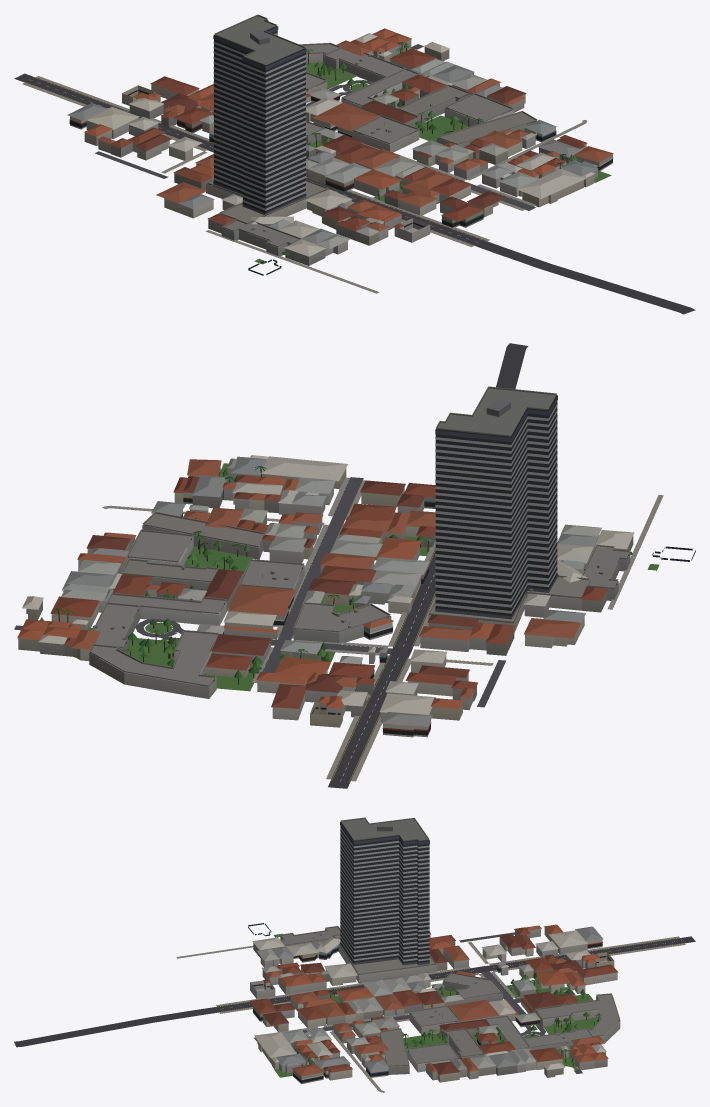
3 views of the same model, one above another, from view 1: azimuth 30°, elevation 25°; view 2: azimuth 150°, elevation 25°; view 3: azimuth 270°, elevation 25° (orthographic). The views are drawn at different scales.
Parts seen in each view (by area): view 1: Buildings__r-9c-8-col, Esperanza Tower CFI-col, Roads_Major__r-9c-8, Sidewalks__r-9c-8-col, Landuse__r-9c-8, Maria Cristina Arcade-col, Props_Foliage__r-9c-8, Windows__r-9c-8, Roads_Minor__r-9c-8, Paragon Suites-col; view 2: Buildings__r-9c-8-col, Esperanza Tower CFI-col, Roads_Major__r-9c-8, Sidewalks__r-9c-8-col, Roads_Minor__r-9c-8, Landuse__r-9c-8, Props_Foliage__r-9c-8, Maria Cristina Arcade-col, Windows__r-9c-8, Paragon Suites-col; view 3: Buildings__r-9c-8-col, Esperanza Tower CFI-col, Roads_Major__r-9c-8, Sidewalks__r-9c-8-col, Landuse__r-9c-8, Props_Foliage__r-9c-8, Roads_Minor__r-9c-8, Windows__r-9c-8, Maria Cristina Arcade-col.
Boxes of the visible parts, left/top/right/bottom form: Buildings__r-9c-8-col: left=67, top=28, right=613, bottom=265; Esperanza Tower CFI-col: left=213, top=14, right=306, bottom=216; Roads_Major__r-9c-8: left=14, top=73, right=695, bottom=314; Sidewalks__r-9c-8-col: left=22, top=48, right=587, bottom=293; Landuse__r-9c-8: left=254, top=48, right=611, bottom=264; Maria Cristina Arcade-col: left=312, top=102, right=380, bottom=137; Props_Foliage__r-9c-8: left=282, top=42, right=583, bottom=255; Windows__r-9c-8: left=69, top=54, right=613, bottom=275; Roads_Minor__r-9c-8: left=95, top=44, right=535, bottom=210; Paragon Suites-col: left=325, top=163, right=371, bottom=191; Buildings__r-9c-8-col: left=17, top=455, right=634, bottom=737; Esperanza Tower CFI-col: left=435, top=386, right=558, bottom=623; Roads_Major__r-9c-8: left=328, top=343, right=528, bottom=788; Sidewalks__r-9c-8-col: left=102, top=477, right=663, bottom=781; Roads_Minor__r-9c-8: left=14, top=477, right=505, bottom=707; Landuse__r-9c-8: left=87, top=463, right=659, bottom=691; Props_Foliage__r-9c-8: left=40, top=466, right=632, bottom=678; Maria Cristina Arcade-col: left=228, top=585, right=295, bottom=626; Windows__r-9c-8: left=90, top=467, right=695, bottom=735; Paragon Suites-col: left=372, top=557, right=429, bottom=584; Buildings__r-9c-8-col: left=249, top=924, right=620, bottom=1083; Esperanza Tower CFI-col: left=340, top=817, right=429, bottom=971; Roads_Major__r-9c-8: left=14, top=936, right=695, bottom=1047; Sidewalks__r-9c-8-col: left=176, top=936, right=685, bottom=1092; Landuse__r-9c-8: left=273, top=933, right=598, bottom=1077; Props_Foliage__r-9c-8: left=294, top=972, right=601, bottom=1066; Roads_Minor__r-9c-8: left=254, top=932, right=582, bottom=1073; Windows__r-9c-8: left=248, top=923, right=619, bottom=1082; Maria Cristina Arcade-col: left=447, top=1000, right=499, bottom=1021.
Bounding box in the file's own units: 290 × 111 × 503.
